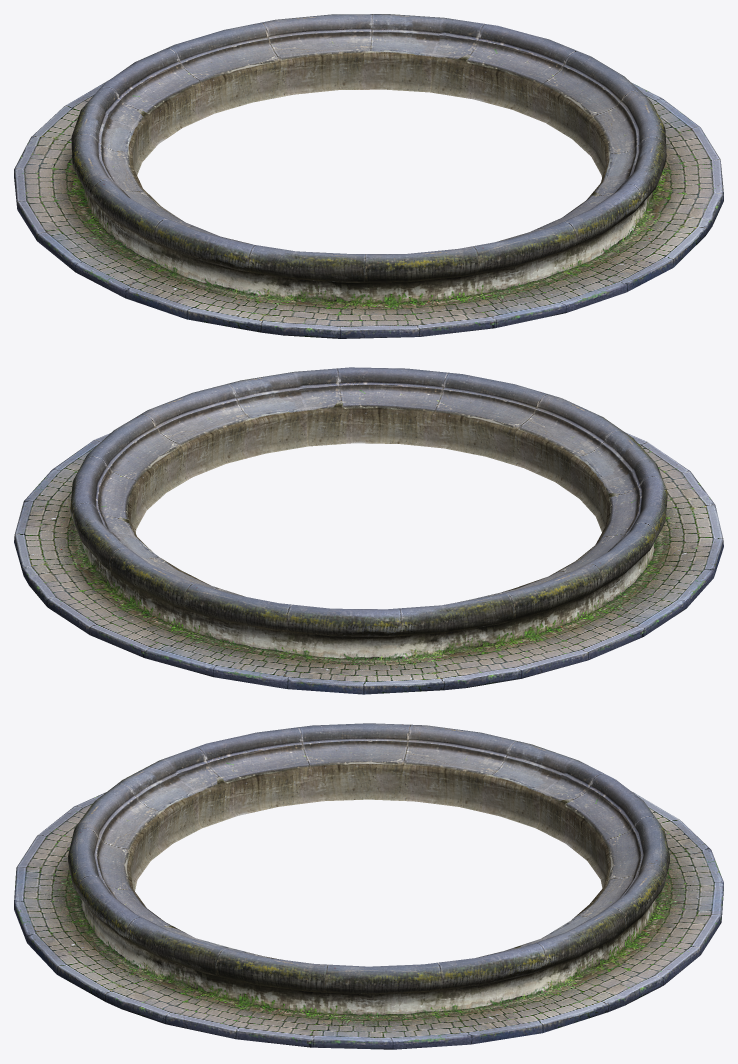
The model's file is park photoscanned teaser - fountain_pool.FBX.
3 renders of one model, top to bottom at view 1: azimuth 30°, elevation 25°; view 2: azimuth 150°, elevation 25°; view 3: azimuth 270°, elevation 25°, orthographic.
Visible parts, largest first — view 1: fountain_pool_LOD0; view 2: fountain_pool_LOD0; view 3: fountain_pool_LOD0.
Part boxes in pixels (<box>): fountain_pool_LOD0: <box>14,14,723,338</box>; fountain_pool_LOD0: <box>14,367,723,694</box>; fountain_pool_LOD0: <box>14,723,723,1049</box>.
Bounding box in the file's own units: 340 × 29.32 × 340.
